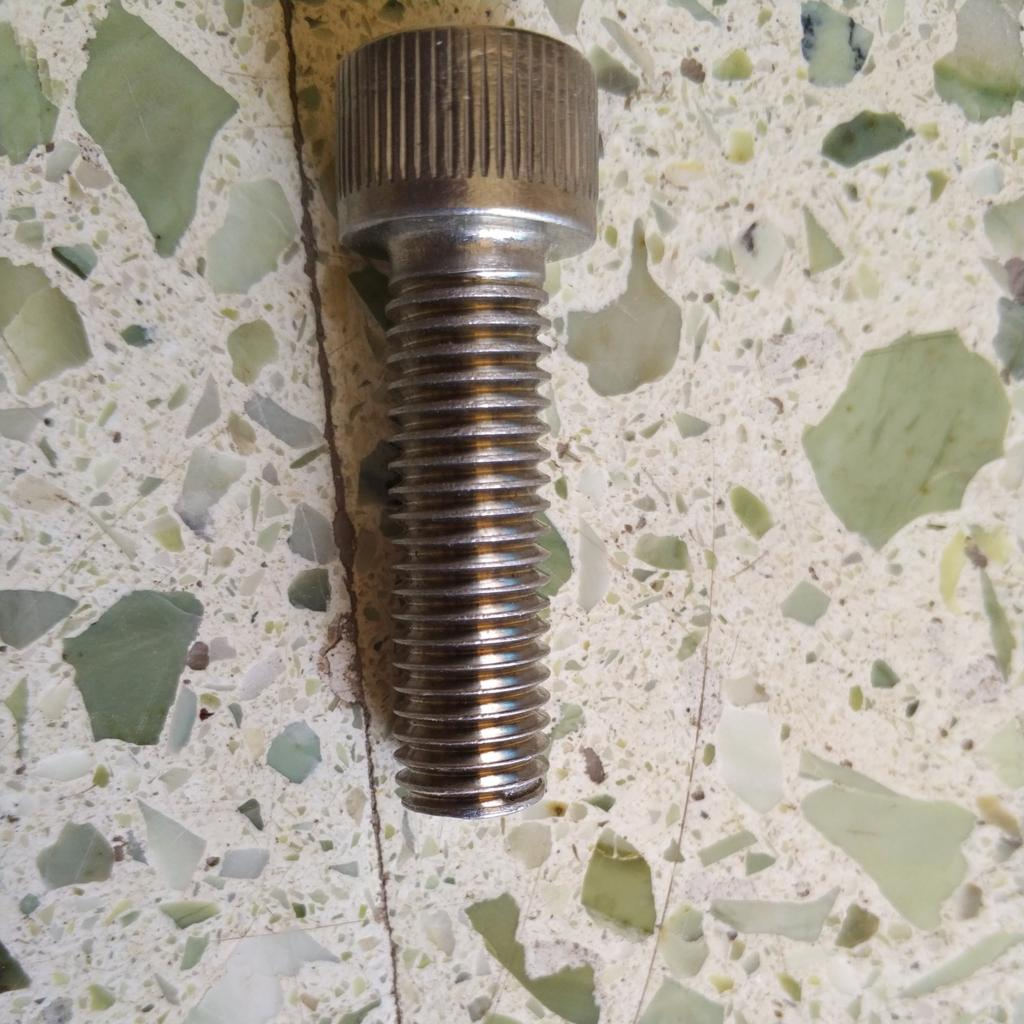screwtype1silver: (319, 19, 612, 827)
